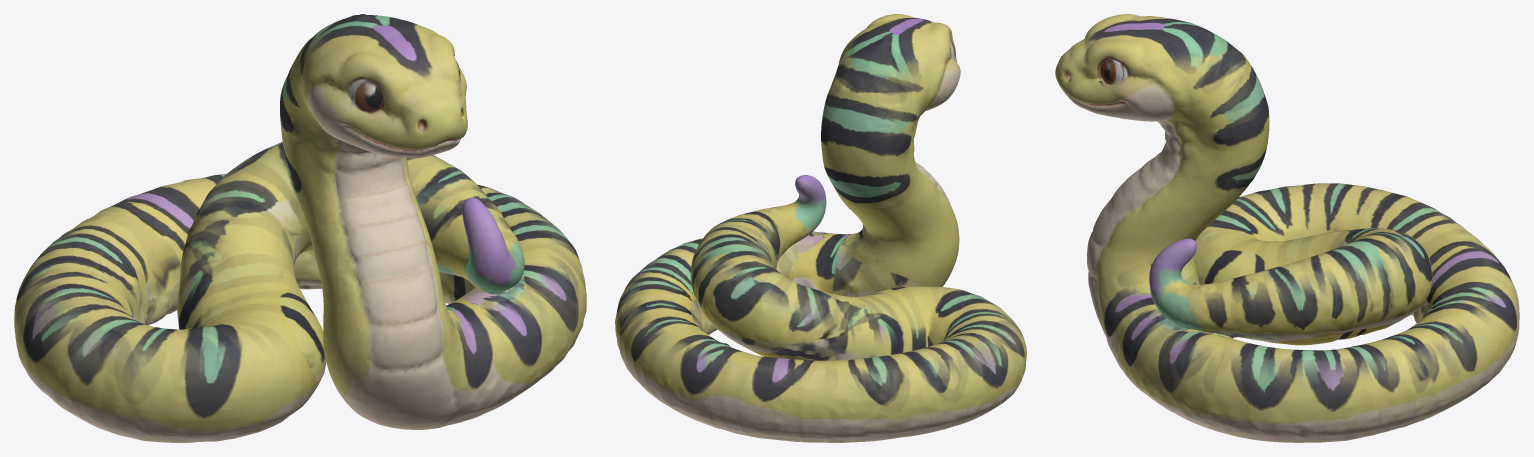
File: Gurungi.obj
The picture shows the model from 3 angles, left to right: view 1: azimuth 30°, elevation 25°; view 2: azimuth 150°, elevation 25°; view 3: azimuth 270°, elevation 25°; orthographic projection. The views are drawn at different scales.
Visible parts, largest first — view 1: surface_8; view 2: surface_8; view 3: surface_8.
Part boxes in pixels (left/top/right/bottom): surface_8: left=14, top=14, right=586, bottom=442; surface_8: left=615, top=14, right=1026, bottom=442; surface_8: left=1055, top=14, right=1519, bottom=442.
Size of the model in its own units: 1 by 0.7639 by 0.9778.
Materials: 1 (1 with a texture image).
